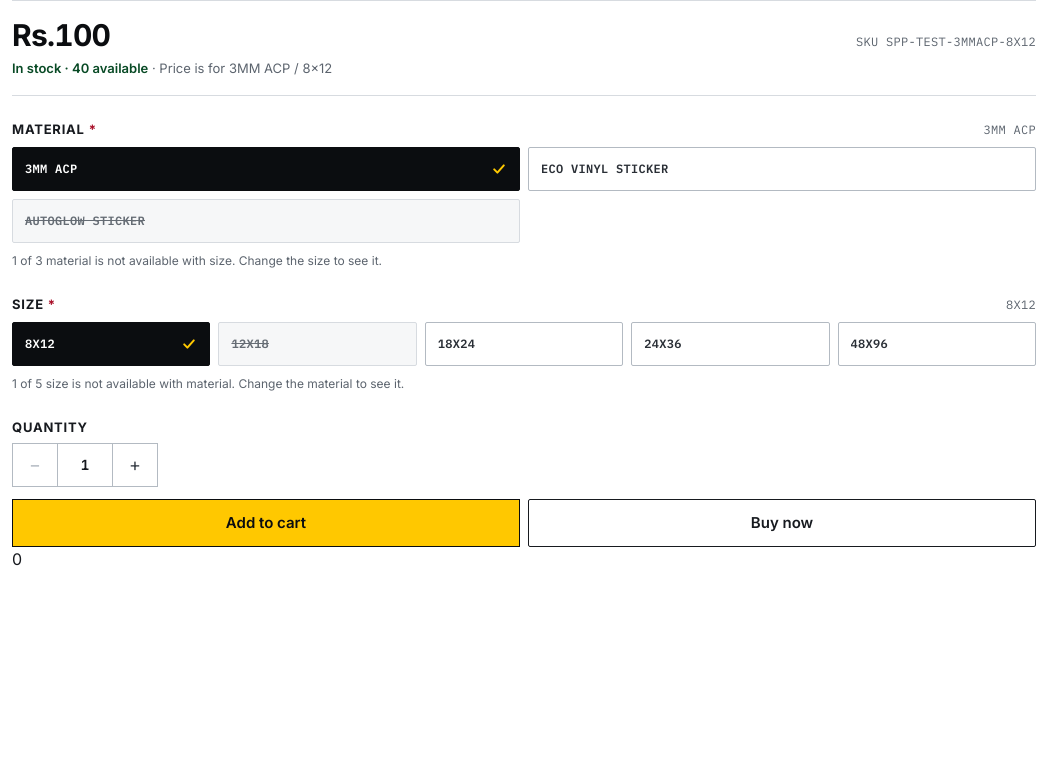
it: VariantSelector - material changes available sizes › disables more sizes as the material narrows
# 18x24 is available in all three materials, so it is a common pivot.
Click the radio button labelled "18x24".
click(524, 344)  # box [425,322,623,366]
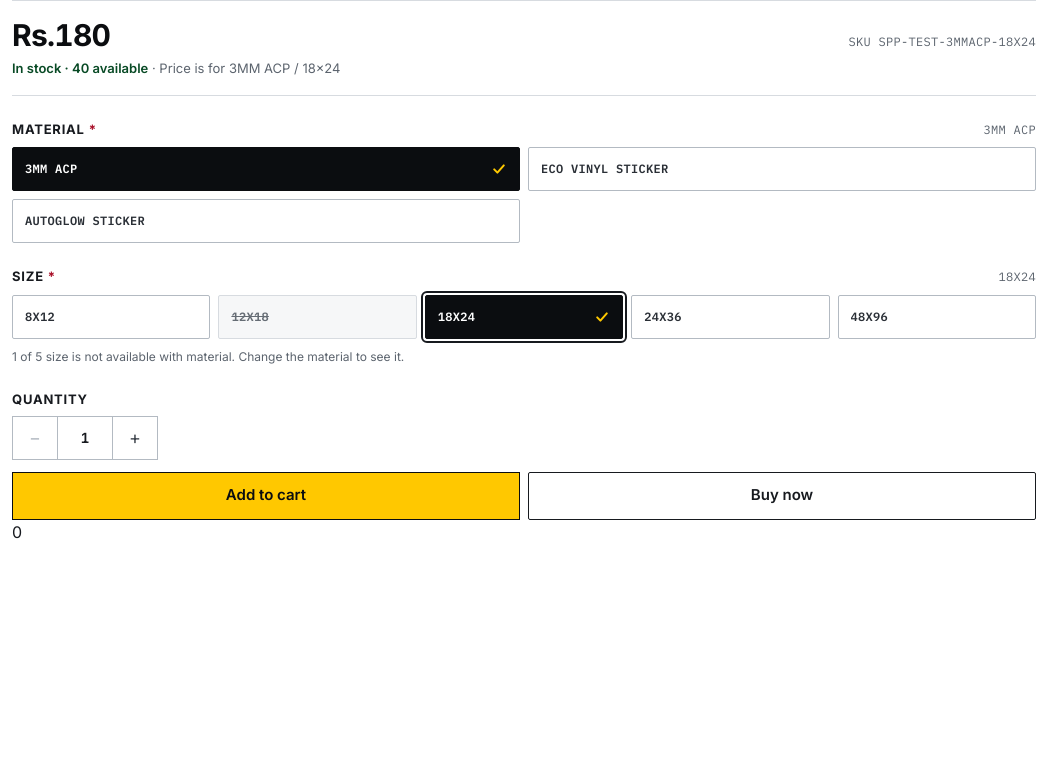
Expected: the radio button labelled "48x96" is enabled, [838,294,1036,338]
# Vinyl is only made in 8x12 and 18x24.
Click the radio button labelled "ECO VINYL STICKER".
click(605, 168)  # box [528,147,1036,191]
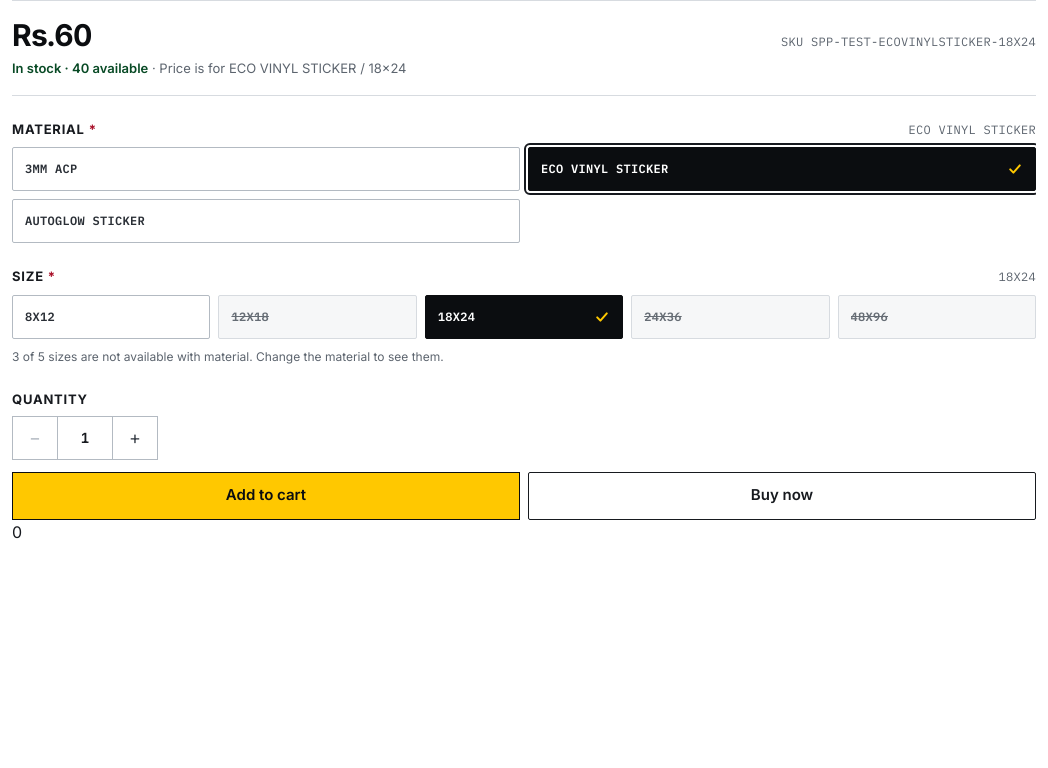
Expected: the radio button labelled "12x18" is disabled, [218,294,417,338]
Expected: the radio button labelled "24x36" is disabled, [631,294,830,338]
Expected: the radio button labelled "48x96" is disabled, [838,294,1036,338]
